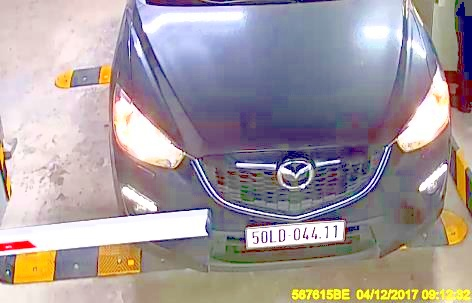plate: (243, 213, 346, 251)
